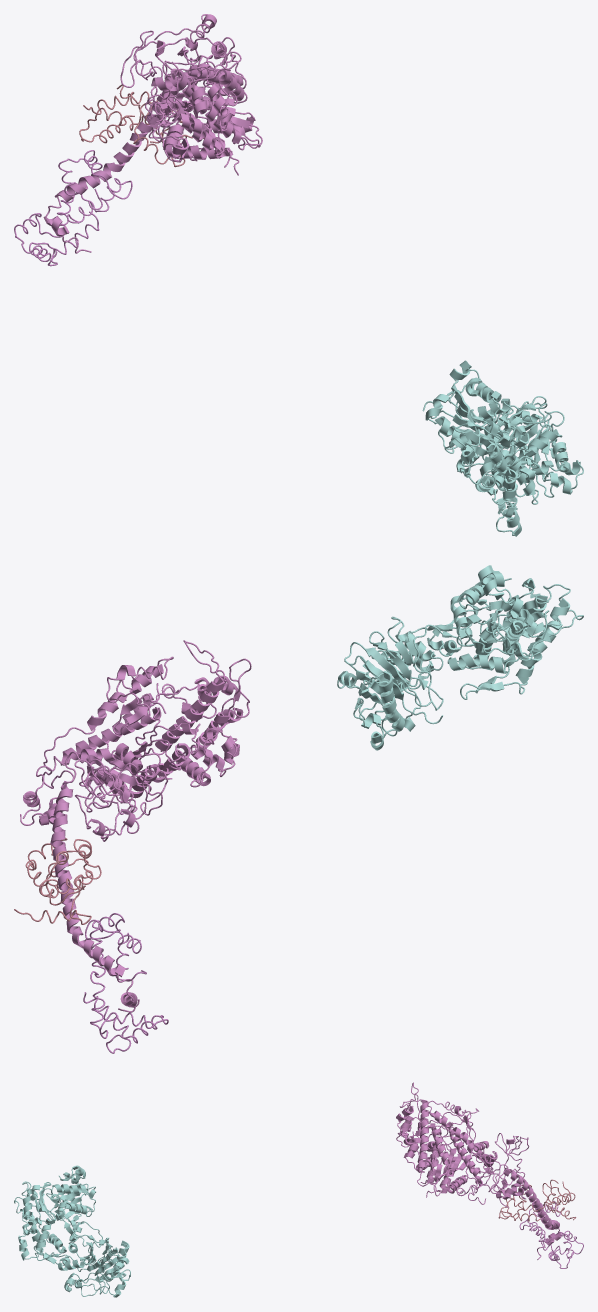
The model's file is actin-myosin-ribbon-draco.glb.
3 renders of one model, top to bottom at view 1: azimuth 30°, elevation 25°; view 2: azimuth 150°, elevation 25°; view 3: azimuth 270°, elevation 25°, orthographic. The views are drawn at different scales.
Parts seen in each view (by area): view 1: 2MYS, 1ATN; view 2: 2MYS, 1ATN; view 3: 2MYS, 1ATN.
Boxes of the visible parts, x1,y1,x2,y2 form: 2MYS: [14, 14, 262, 266]; 1ATN: [422, 360, 583, 536]; 2MYS: [14, 640, 251, 1053]; 1ATN: [337, 565, 583, 750]; 2MYS: [396, 1082, 583, 1268]; 1ATN: [14, 1165, 130, 1297].
Bounding box in the file's own units: 0.8495 × 1.28 × 3.57.
